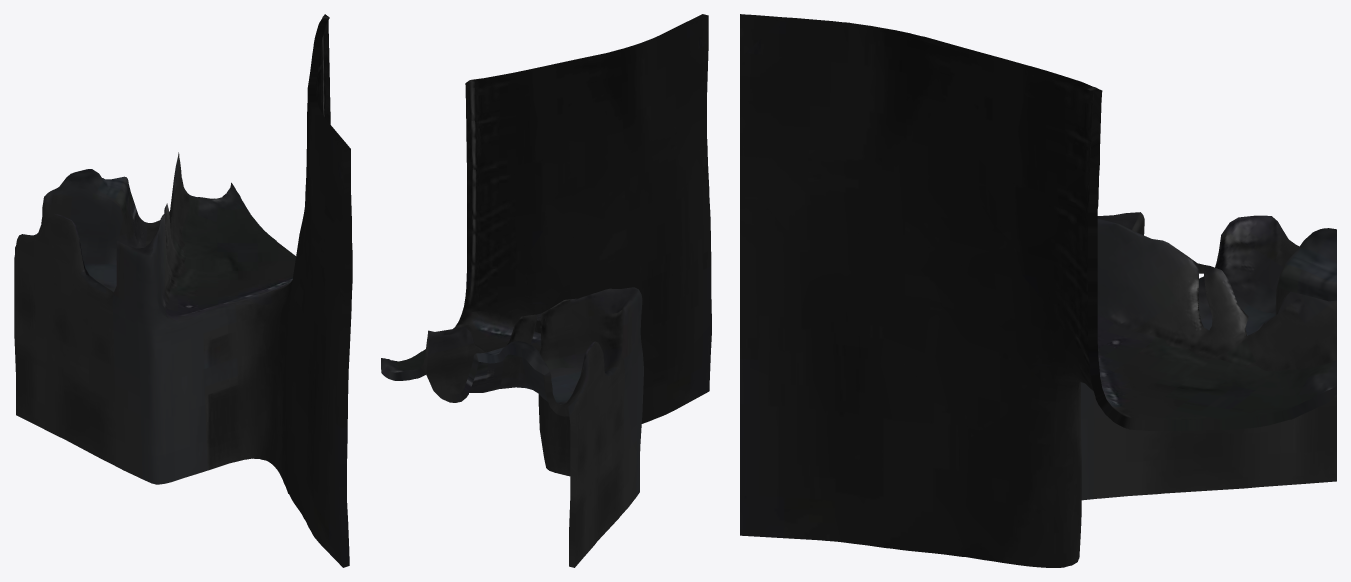
File: z20-167777-405231-h1-yup-uvflip-v3-world.glb
3 views of the same model, side by side, from view 1: azimuth 30°, elevation 25°; view 2: azimuth 150°, elevation 25°; view 3: azimuth 270°, elevation 25° (orthographic). The views are drawn at different scales.
Size of the model in its own units: 15.92 by 29.28 by 30.32.
Materials: 1 (1 with a texture image).
